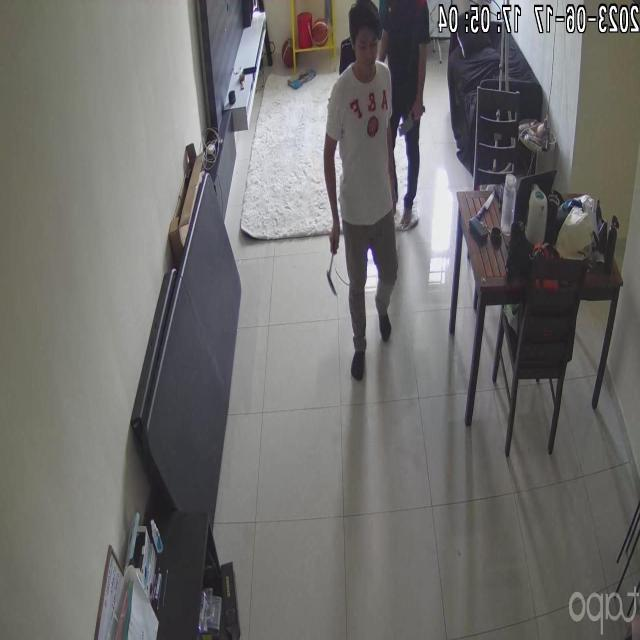Knife: (394, 96, 428, 137)
